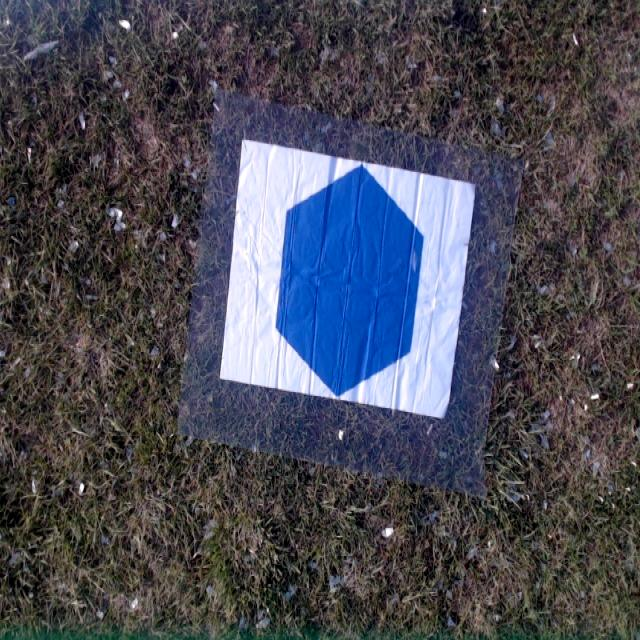blue_hexagon: (279, 160, 423, 398)
